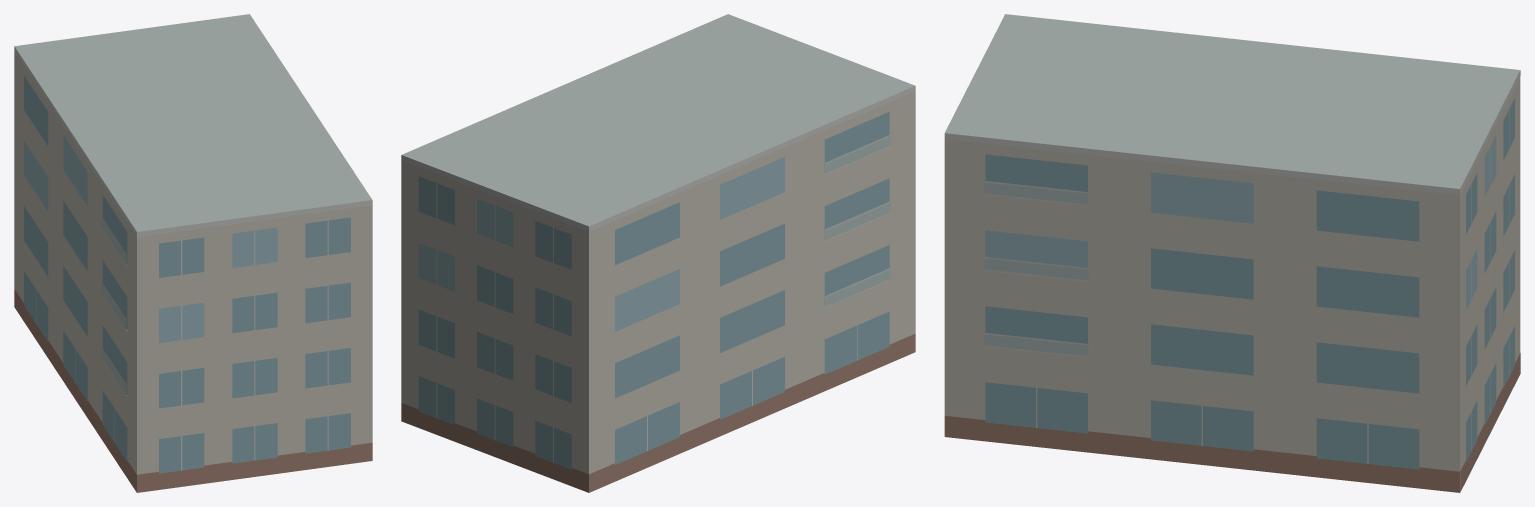
File: survey-upis-32920680.glb
3 renders of one model, left to right at view 1: azimuth 30°, elevation 25°; view 2: azimuth 150°, elevation 25°; view 3: azimuth 270°, elevation 25°, orthographic. The views are drawn at different scales.
Visible parts, largest first — view 1: survey-upis-32920680.tmp; view 2: survey-upis-32920680.tmp; view 3: survey-upis-32920680.tmp.
Boxes of the visible parts, bbox=[...] form: survey-upis-32920680.tmp: bbox=[14, 14, 372, 492]; survey-upis-32920680.tmp: bbox=[401, 14, 915, 492]; survey-upis-32920680.tmp: bbox=[944, 14, 1520, 492].
Bounding box in the file's own units: 15.09 × 12.2 × 20.97.
